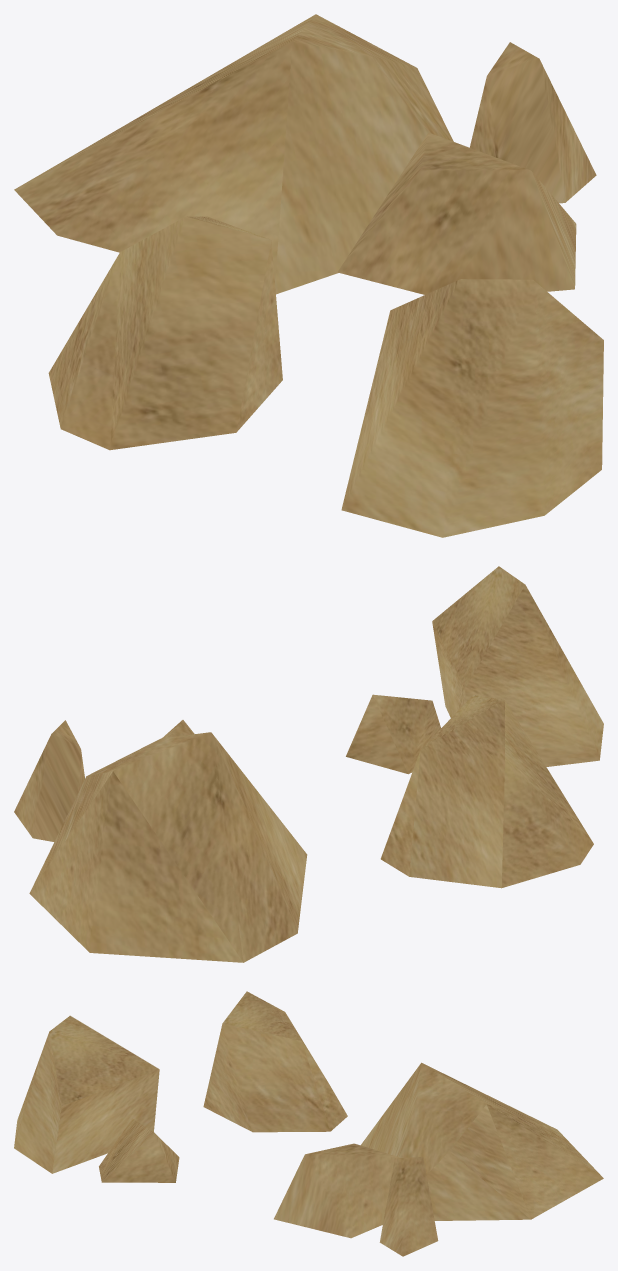
The model's file is rock_clump03_hdtex.glb.
3 views of the same model, one above another, from view 1: azimuth 30°, elevation 25°; view 2: azimuth 150°, elevation 25°; view 3: azimuth 270°, elevation 25° (orthographic). The views are drawn at different scales.
Parts seen in each view (by area): view 1: Sphere01; view 2: Sphere01; view 3: Sphere01.
Part boxes in pixels (x1=…): Sphere01: x1=14, y1=14, x2=603, y2=537; Sphere01: x1=14, y1=566, x2=603, y2=962; Sphere01: x1=14, y1=991, x2=603, y2=1256.
Size of the model in its own units: 19.52 by 5.96 by 25.95.
1 material, 1 textured.
